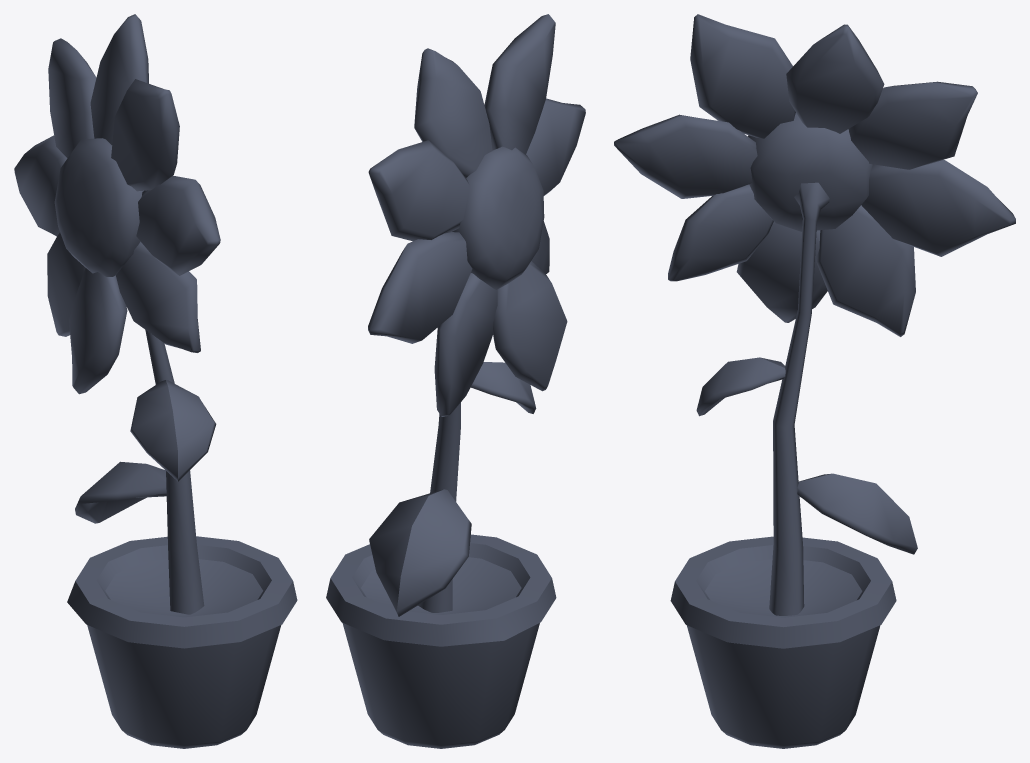
The model's file is SunFlower.FBX.
The picture shows the model from 3 angles, left to right: view 1: azimuth 30°, elevation 25°; view 2: azimuth 150°, elevation 25°; view 3: azimuth 270°, elevation 25°; orthographic projection.
Visible parts, largest first — view 1: SunFlowerPot; view 2: SunFlowerPot; view 3: SunFlowerPot.
Boxes of the visible parts, box(x1,y1,x2,y2) form: SunFlowerPot: box(14, 14, 297, 748); SunFlowerPot: box(326, 14, 585, 748); SunFlowerPot: box(614, 14, 1015, 748).
Bounding box in the file's own units: 59.54 × 189 × 100.
